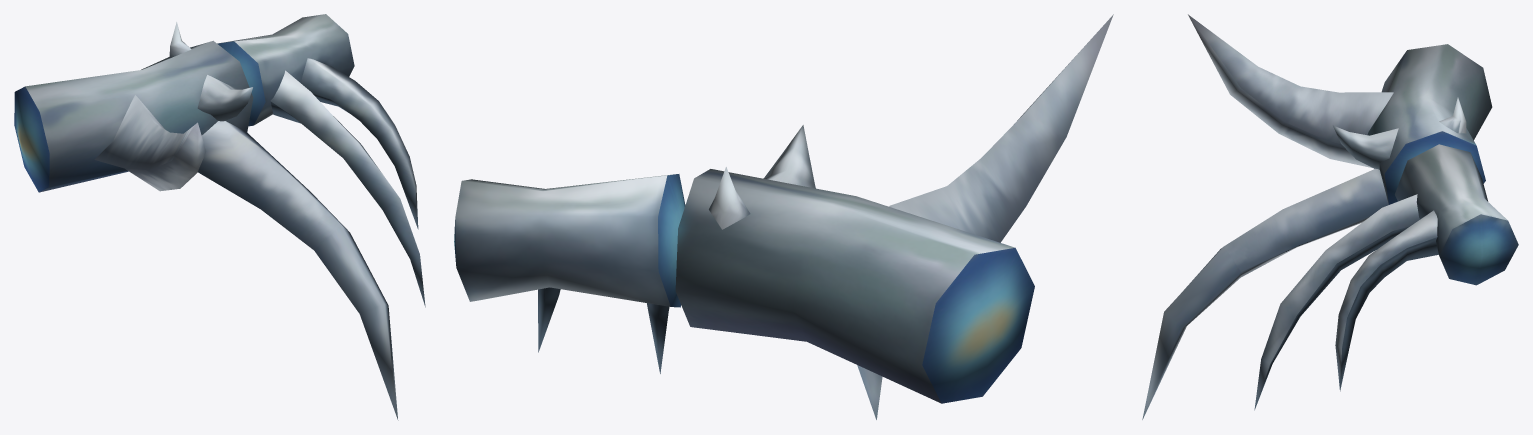
Rendered from LGhuangyuan_longgu05.FBX.
3 views of the same model, side by side, from view 1: azimuth 30°, elevation 25°; view 2: azimuth 150°, elevation 25°; view 3: azimuth 270°, elevation 25° (orthographic). The views are drawn at different scales.
Parts seen in each view (by area): view 1: LGhuangyuan_longgu05; view 2: LGhuangyuan_longgu05; view 3: LGhuangyuan_longgu05.
Boxes of the visible parts, bbox=[...] form: LGhuangyuan_longgu05: bbox=[14, 14, 425, 420]; LGhuangyuan_longgu05: bbox=[454, 14, 1113, 419]; LGhuangyuan_longgu05: bbox=[1142, 14, 1518, 419].
Size of the model in its own units: 92.48 by 88.07 by 82.92.
